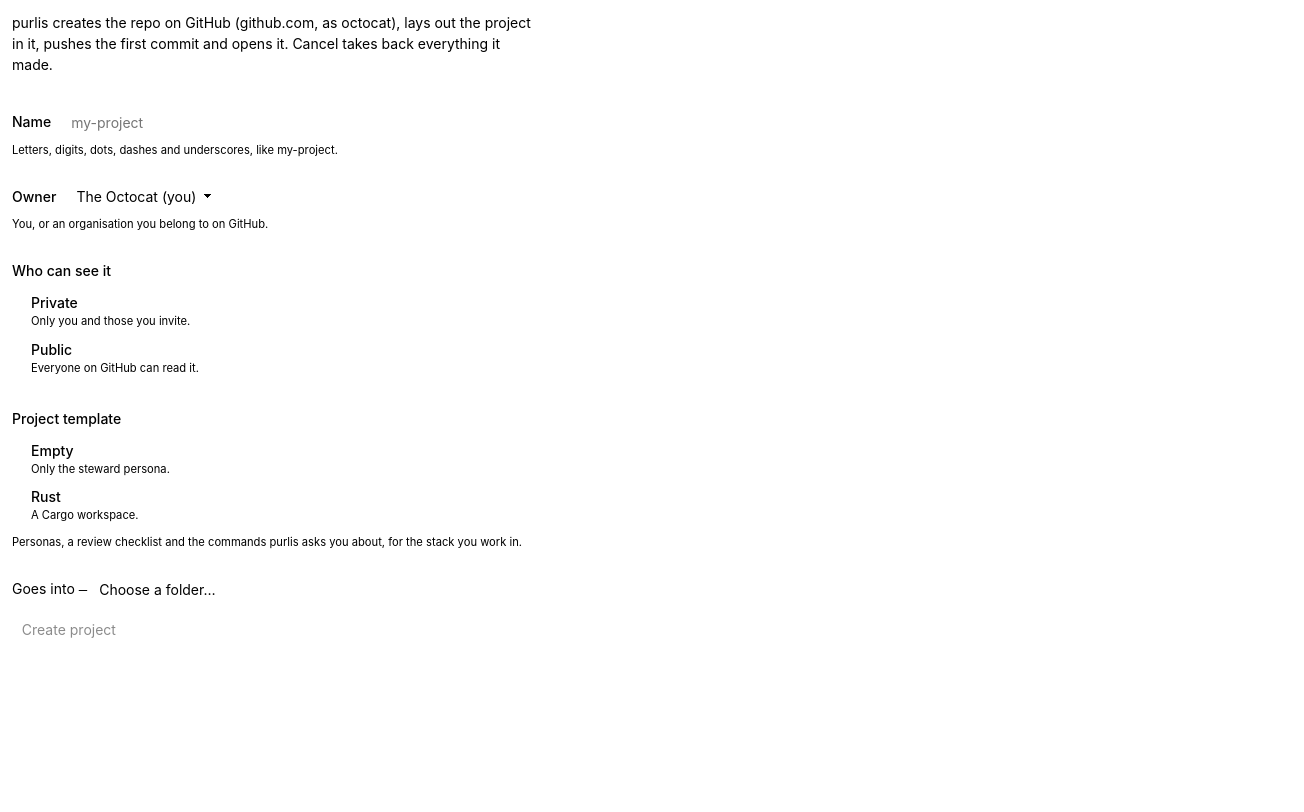
it: create a project on a forge (#1819) › says why a name cannot be one, and does not create
The image size is (1304, 812).
Expected: the dropdown named "Owner" is shown, [68,182,220,210]
Type "not a name" into the field labelled "Name" at [678, 122], box [63,108,1292,136]
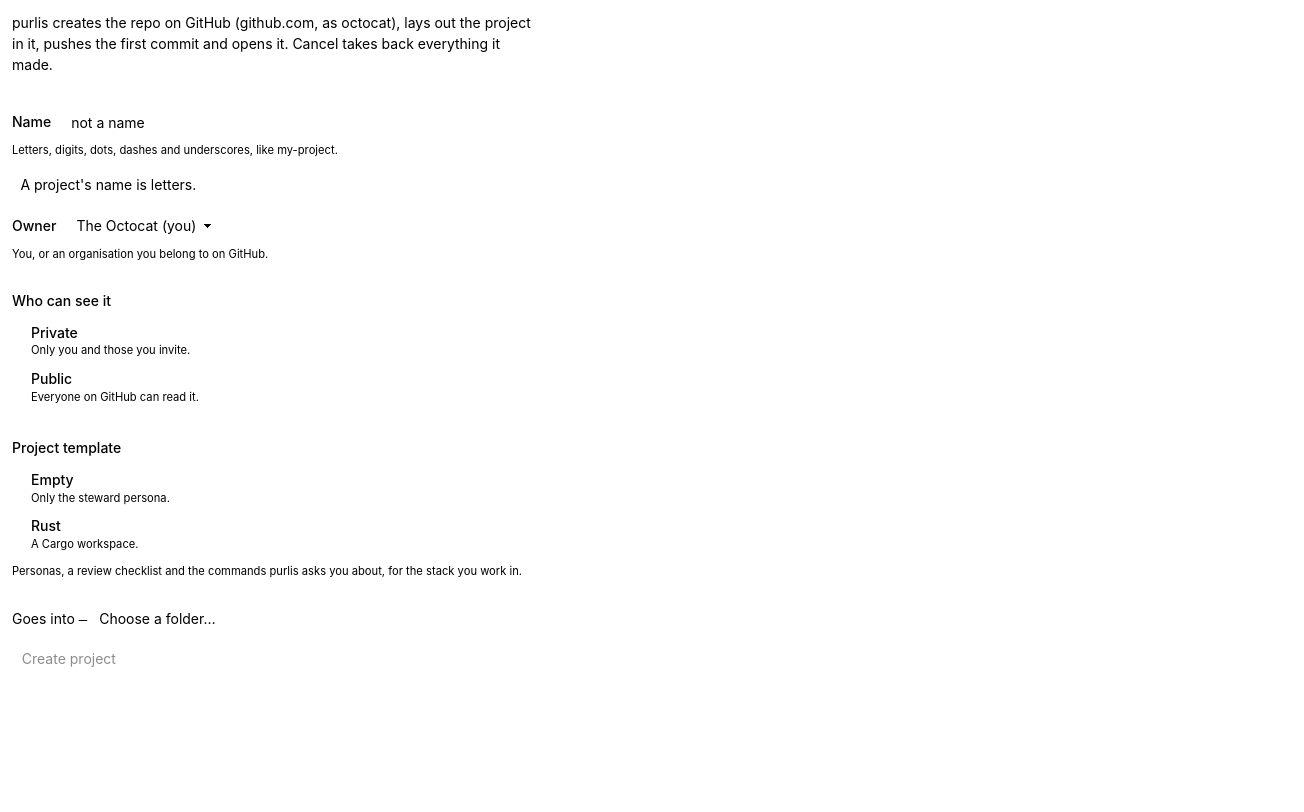
Expected: the button "Create project" is disabled, [12,646,126,672]
Now the message reads "A project's name is letters.", box [20,176,196,193]
